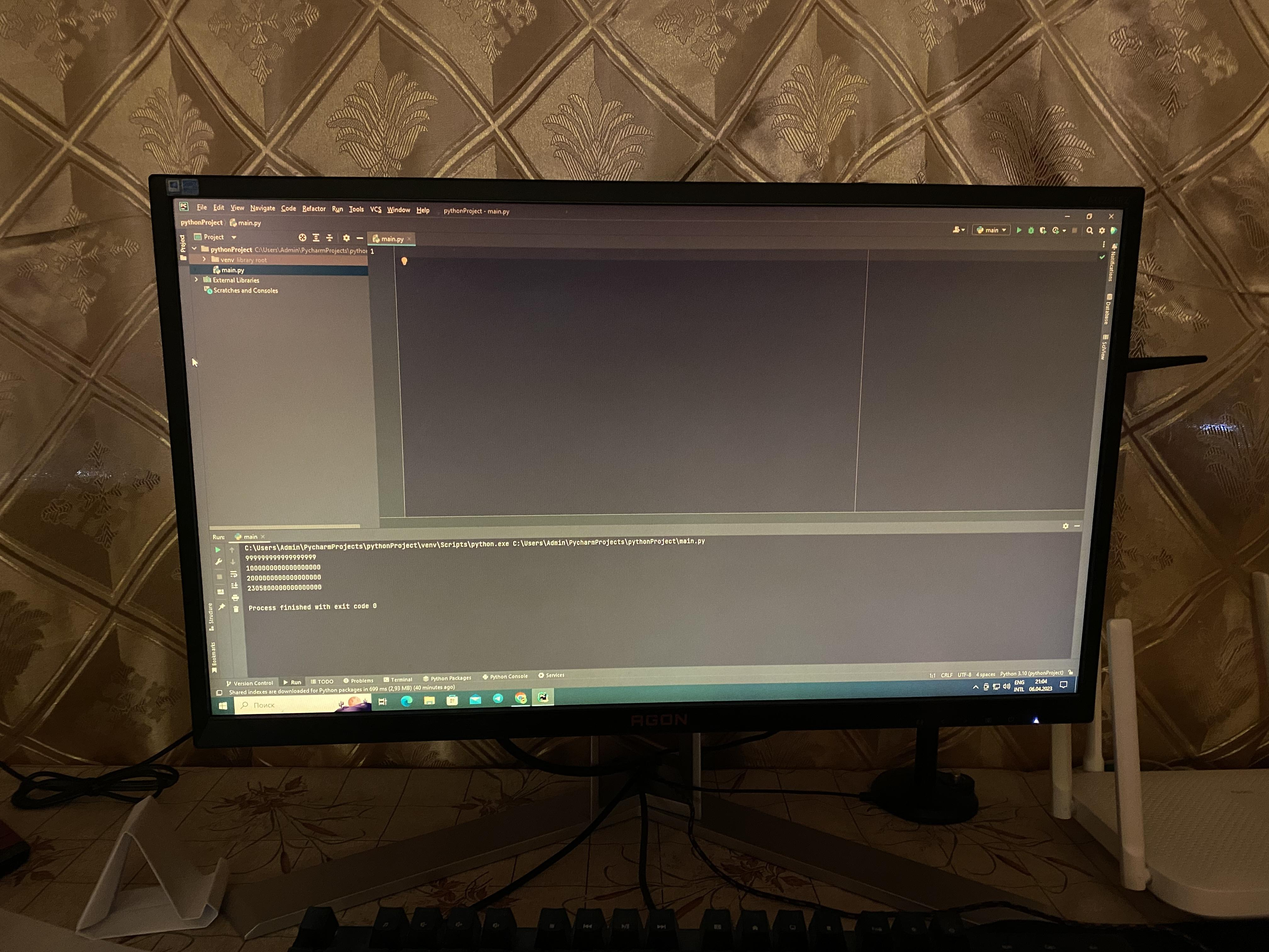monitor: (137, 164, 1152, 759)
